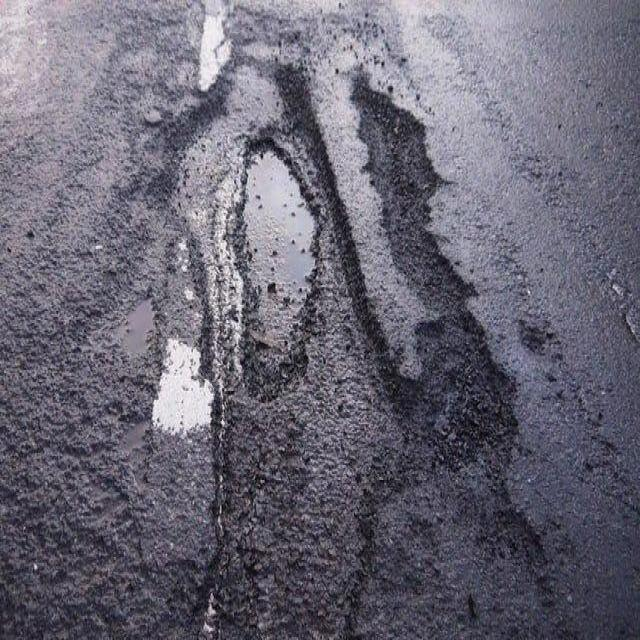jalan retak: (0, 383, 186, 640), (1, 189, 175, 428), (78, 0, 246, 174), (433, 428, 566, 640), (148, 188, 234, 414), (536, 337, 640, 516), (1, 101, 160, 218), (545, 165, 640, 353), (195, 391, 259, 640), (134, 73, 245, 193), (190, 2, 388, 59)
lubang: (263, 40, 427, 450), (340, 64, 525, 427), (220, 120, 326, 401), (335, 421, 426, 640), (513, 310, 562, 373)
